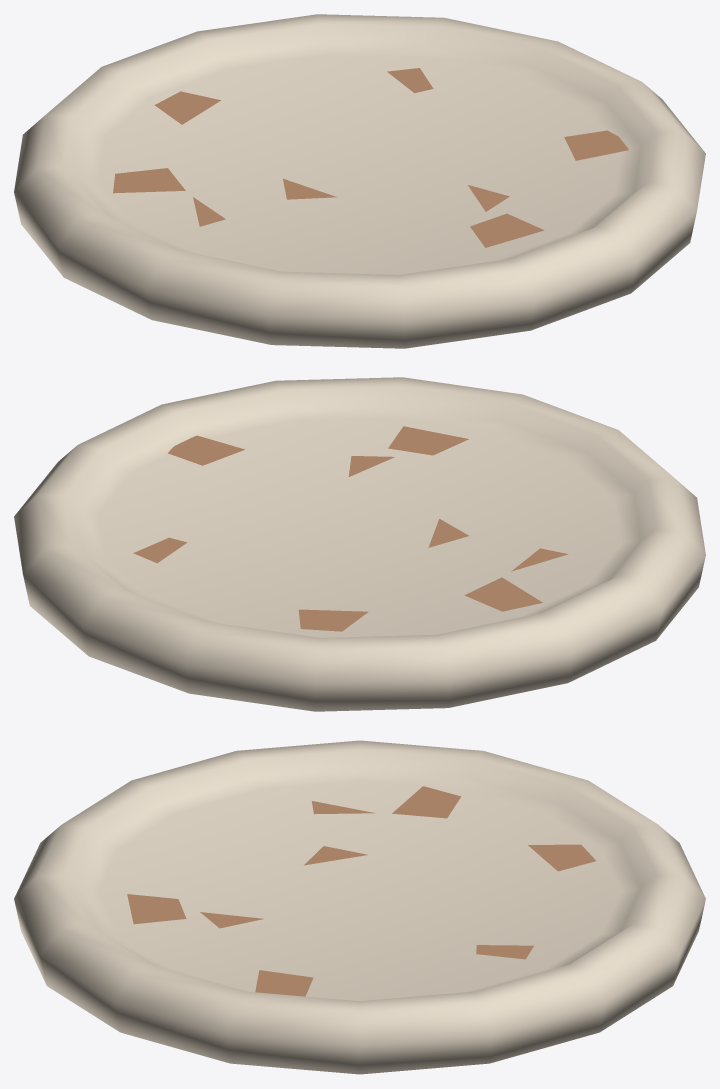
File: Stock_Wrap_geo.fbx
3 renders of one model, top to bottom at view 1: azimuth 30°, elevation 25°; view 2: azimuth 150°, elevation 25°; view 3: azimuth 270°, elevation 25°, orthographic.
Parts seen in each view (by area): view 1: Stock_Wrap_geo; view 2: Stock_Wrap_geo; view 3: Stock_Wrap_geo.
Boxes of the visible parts, x1,y1,x2,y2 form: Stock_Wrap_geo: (14, 14, 705, 348); Stock_Wrap_geo: (14, 377, 705, 711); Stock_Wrap_geo: (14, 740, 705, 1074).
Bounding box in the file's own units: 0.8307 × 0.8307 × 0.0735.
